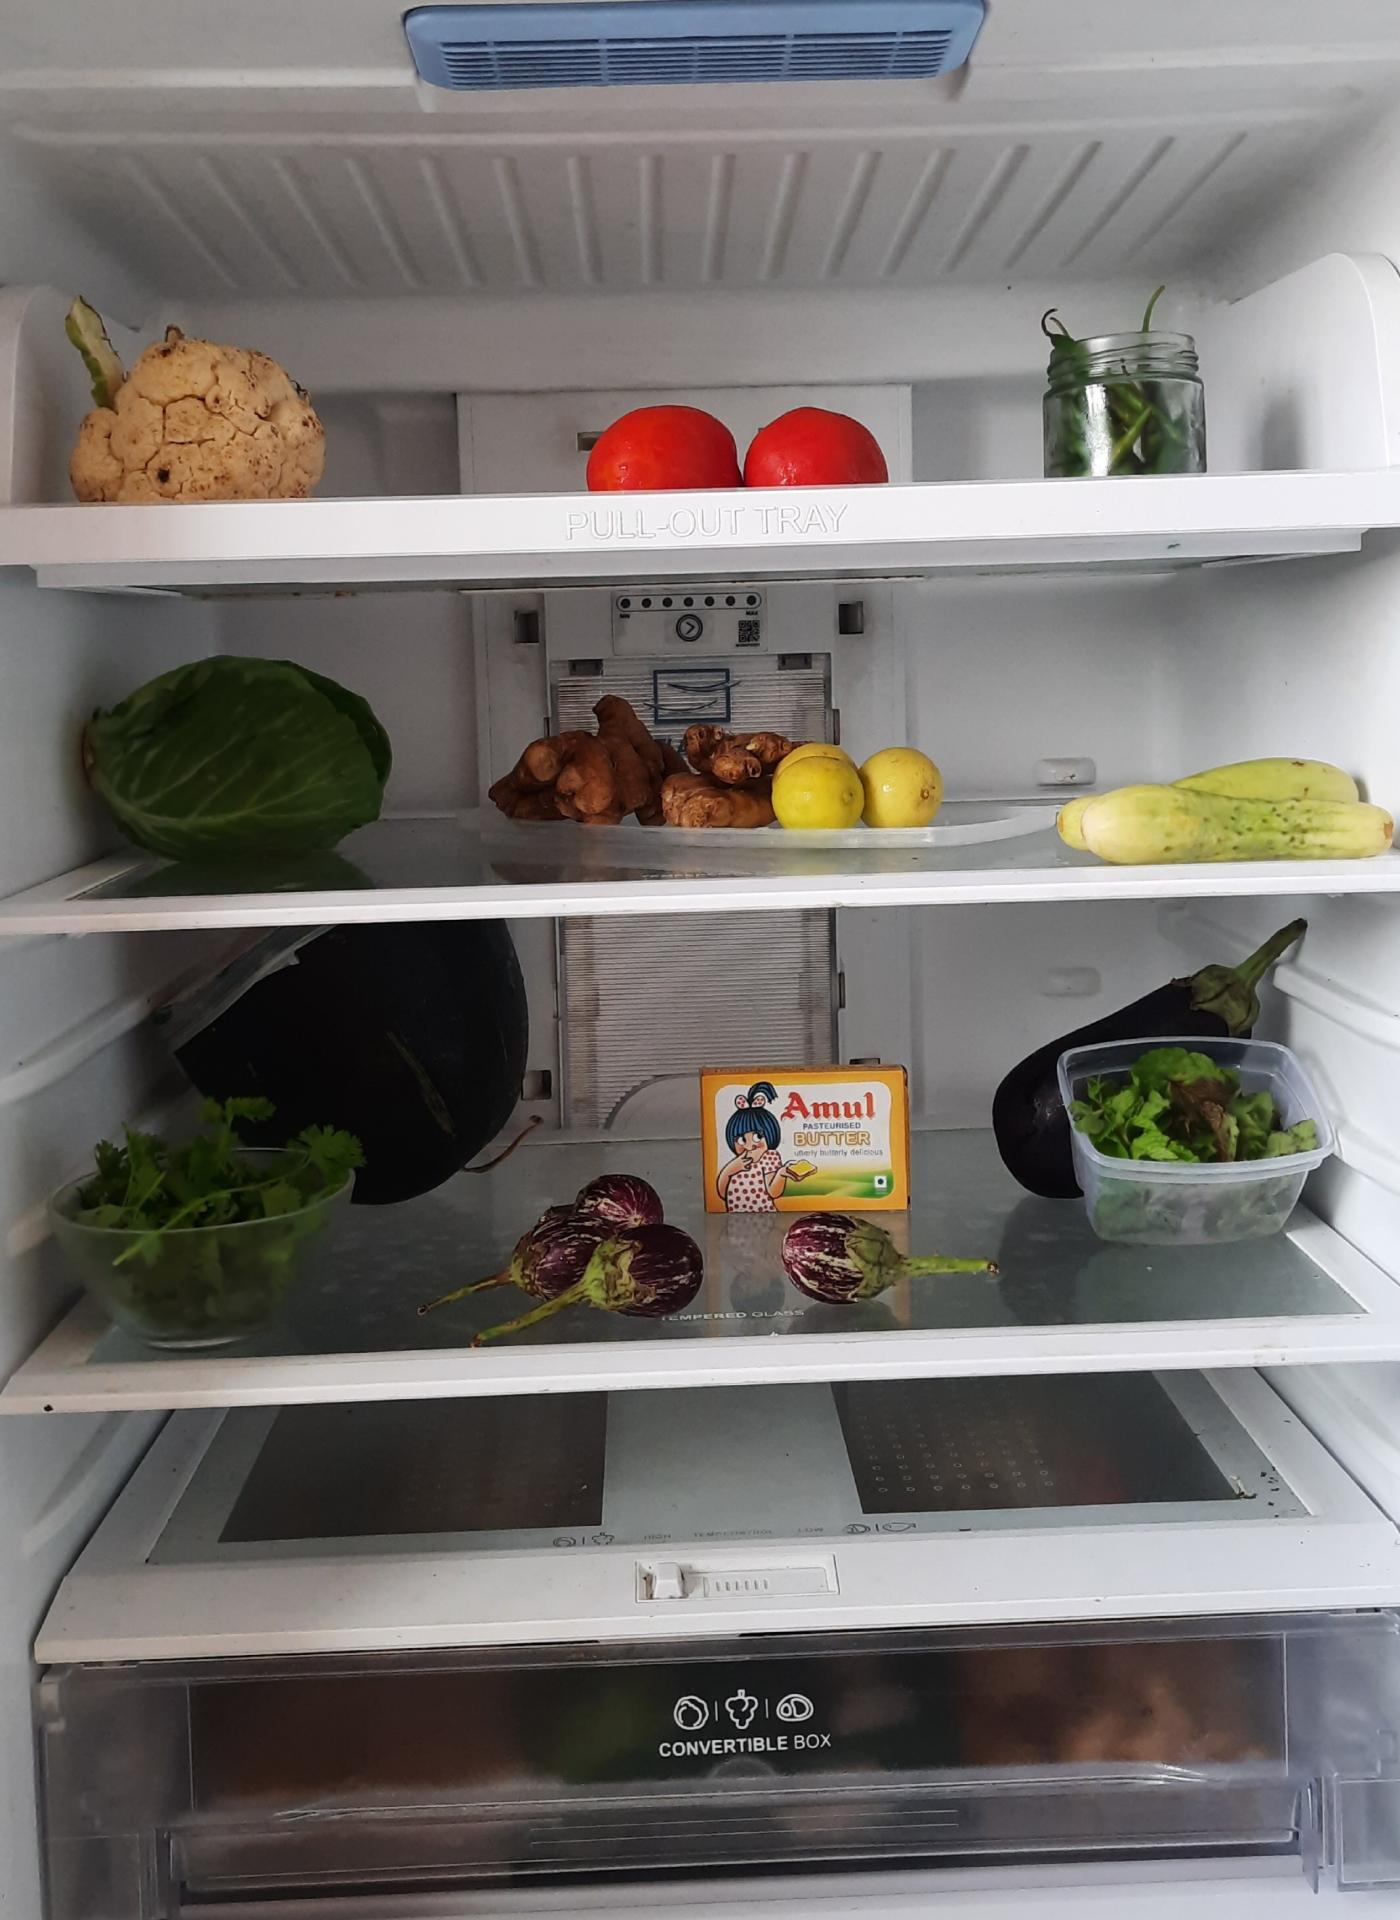basil: (1072, 1063, 1321, 1245)
brinjal: (987, 911, 1311, 1213), (452, 1160, 722, 1334), (771, 1209, 1002, 1313)
butter: (701, 1061, 912, 1210)
cabbage: (78, 651, 389, 875)
cauliflower: (64, 316, 328, 499)
chillies: (1041, 297, 1209, 483)
coriander: (55, 1120, 356, 1337)
cucumber: (1045, 763, 1394, 866)
ginger: (483, 684, 802, 847)
lemon: (769, 748, 942, 836)
tomato: (583, 401, 892, 490)
watermelon: (160, 921, 538, 1201)
